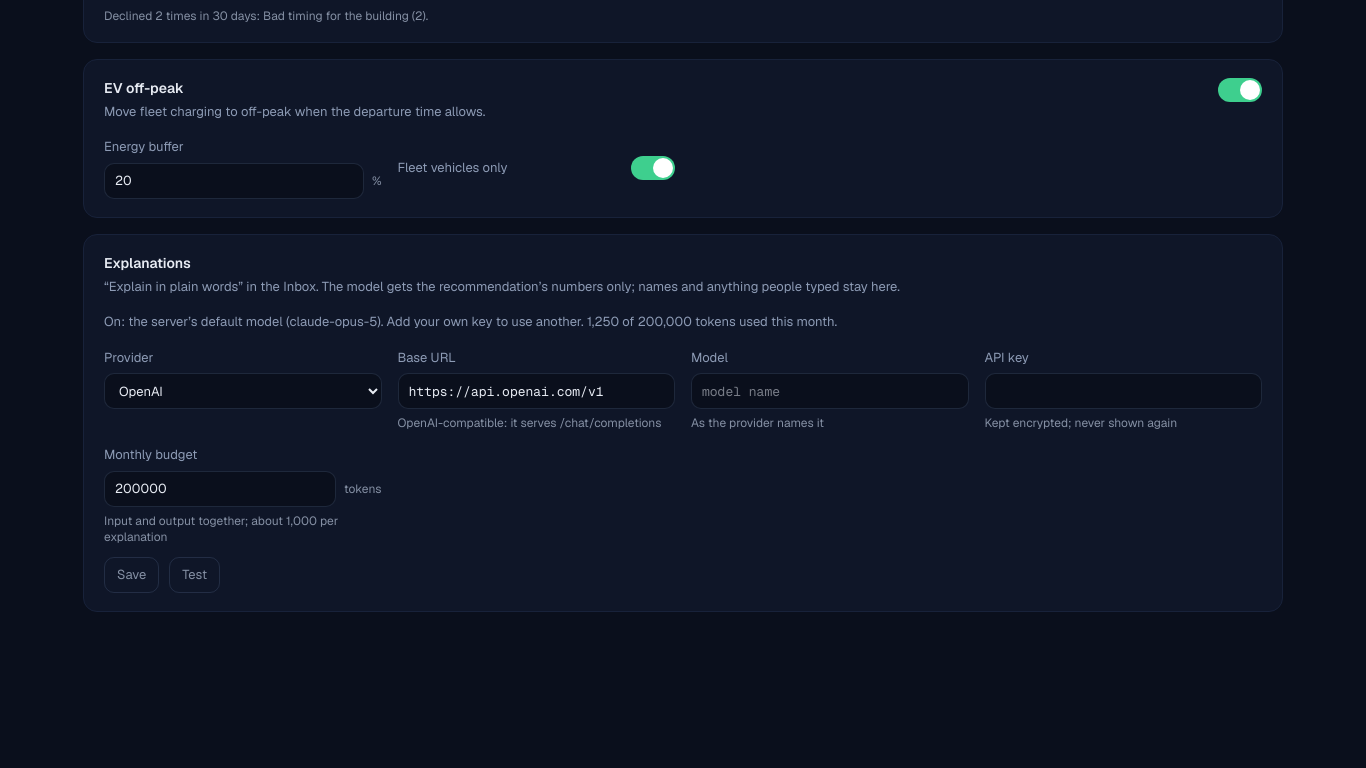
Scenario: explanations: your own language model (P5-05) › lets the owner plug in an OpenAI-compatible key, try it and save it
(page scrolled)
Expected: the text with test id "explanations-status" shows "On: the server’s default model (claude-opus-5). Add your own key to use another. 1,250 of 200,000 tokens used this month.", [104,313,837,330]
Select "OpenRouter" in the dropdown labelled "Provider": (243, 391) [104,373,382,409]
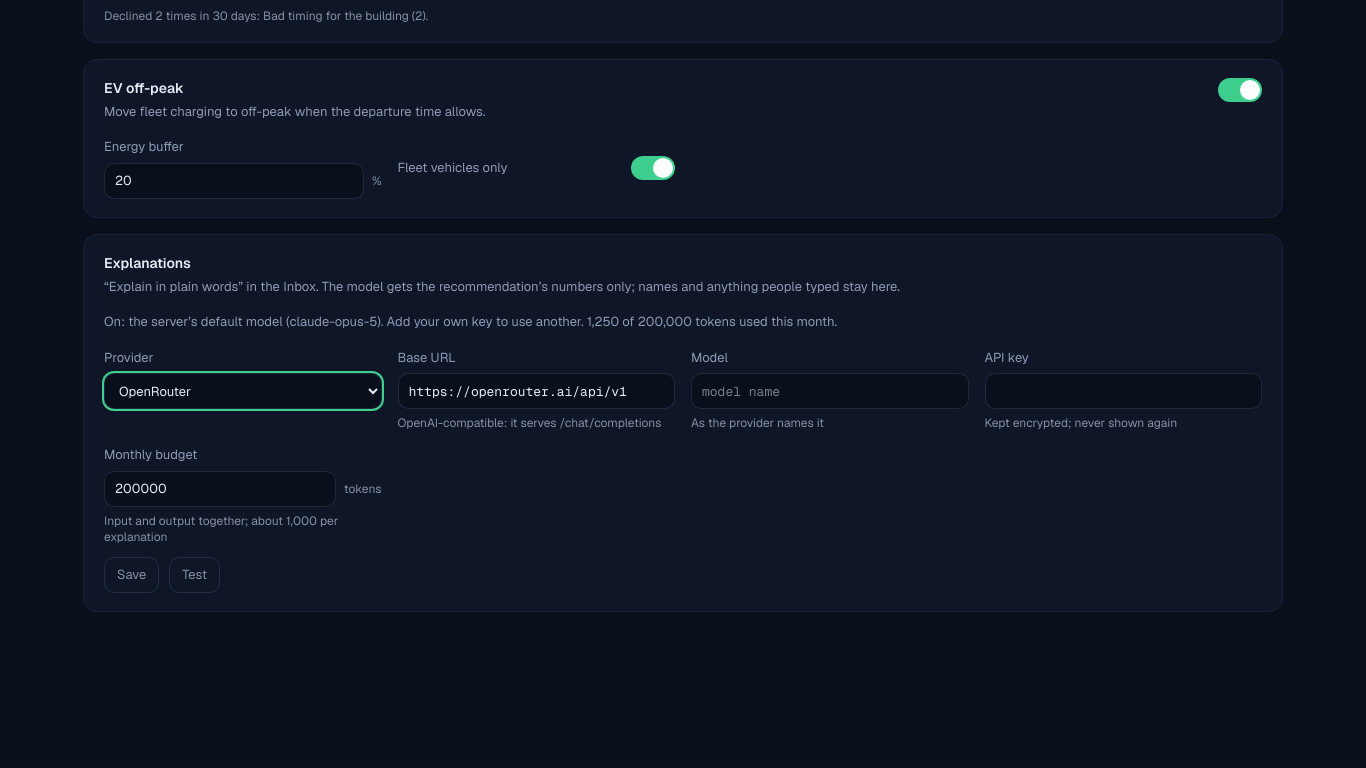
Now the field labelled "Base URL" holds "https://openrouter.ai/api/v1", box [398,373,675,409]
In the field labelled "Model": (830, 391) [691,373,968,409], type "some/model"
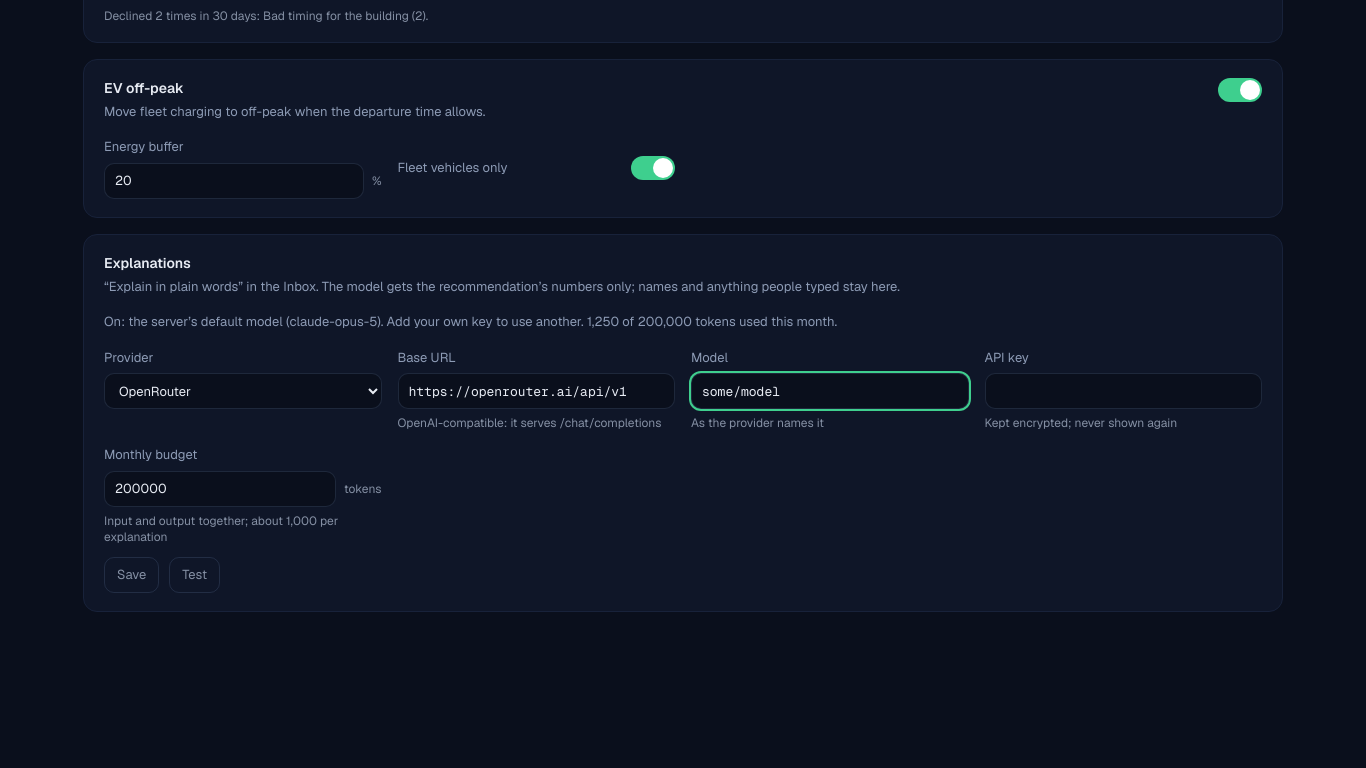
In the password field labelled "API key": (1123, 391) [984,373,1262,409], type "sk-or-1234567890WXYZ"
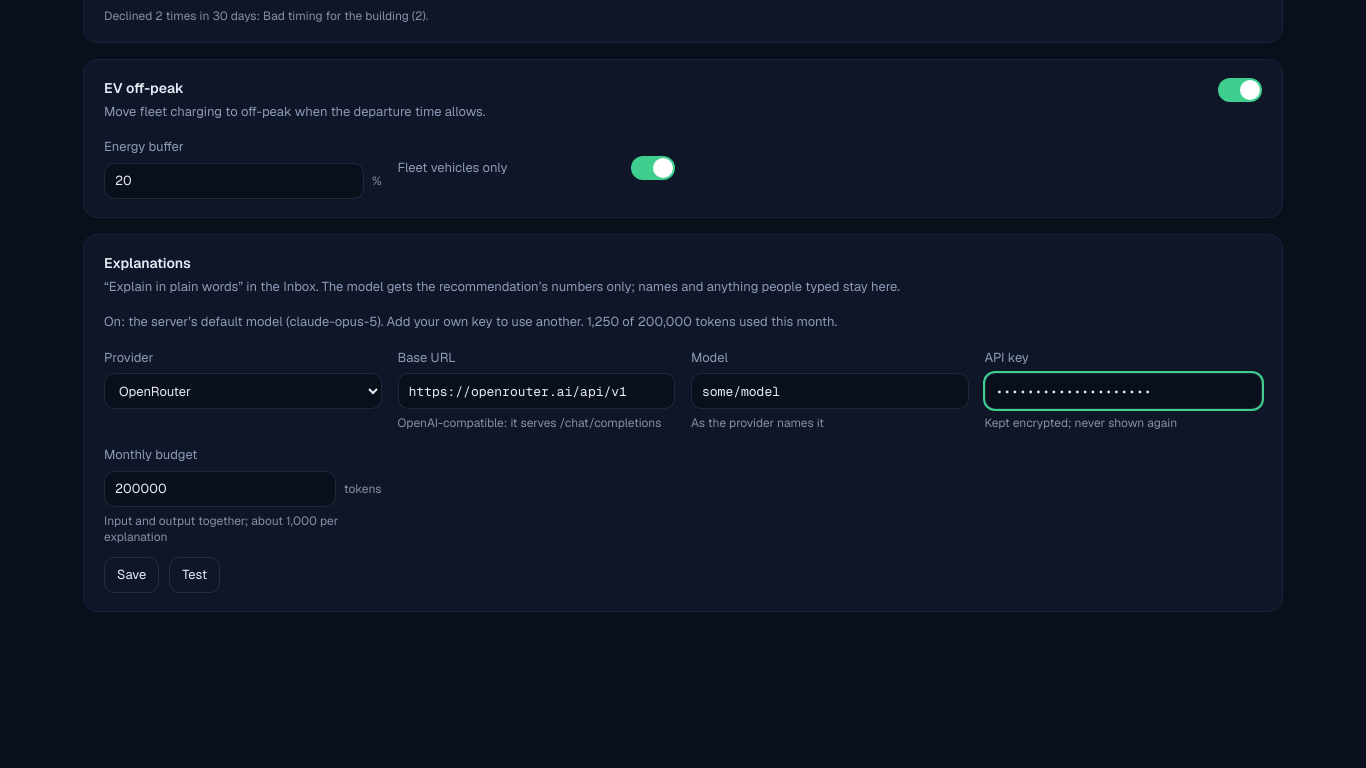
Replace the text in the number field labelled "Monthly budget" with "50000": (220, 488) [104,470,336,506]
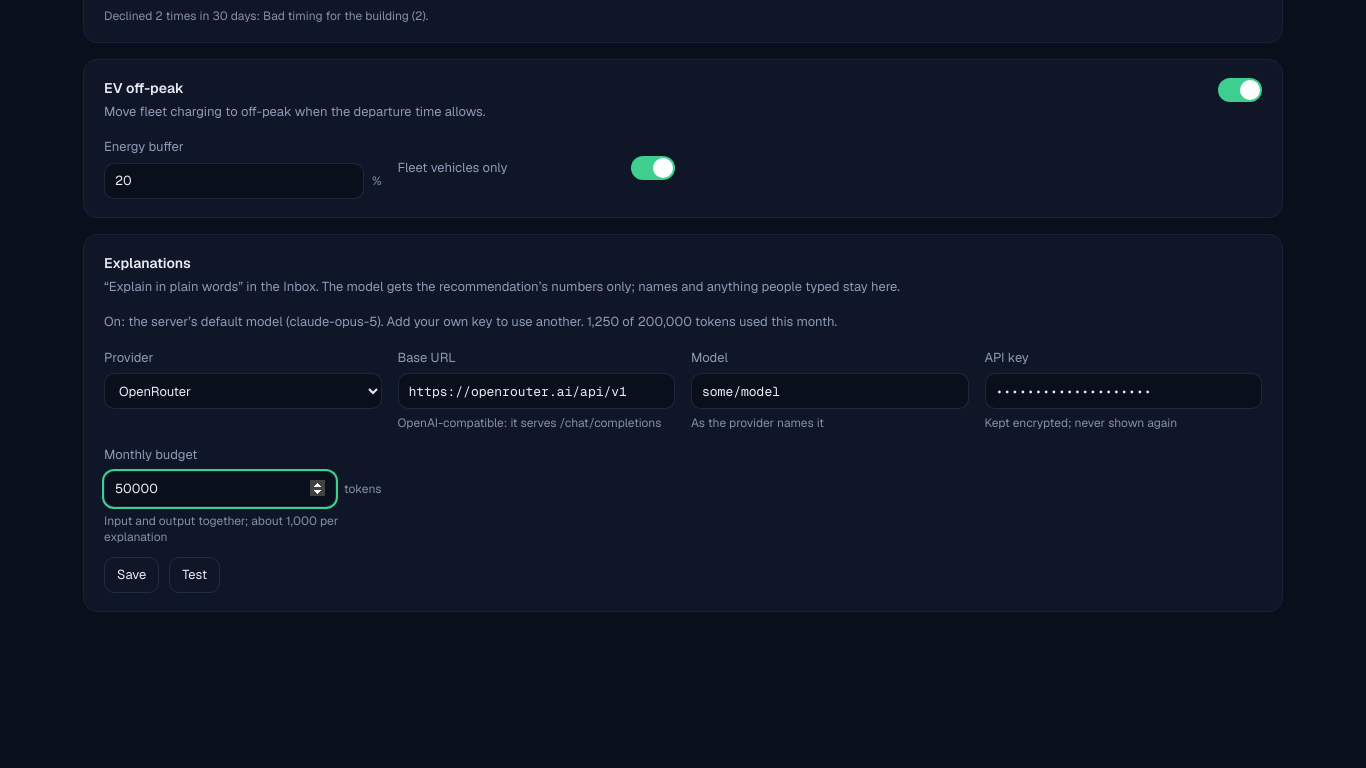
Click the button "Test": click(195, 574) [169,556,220,592]
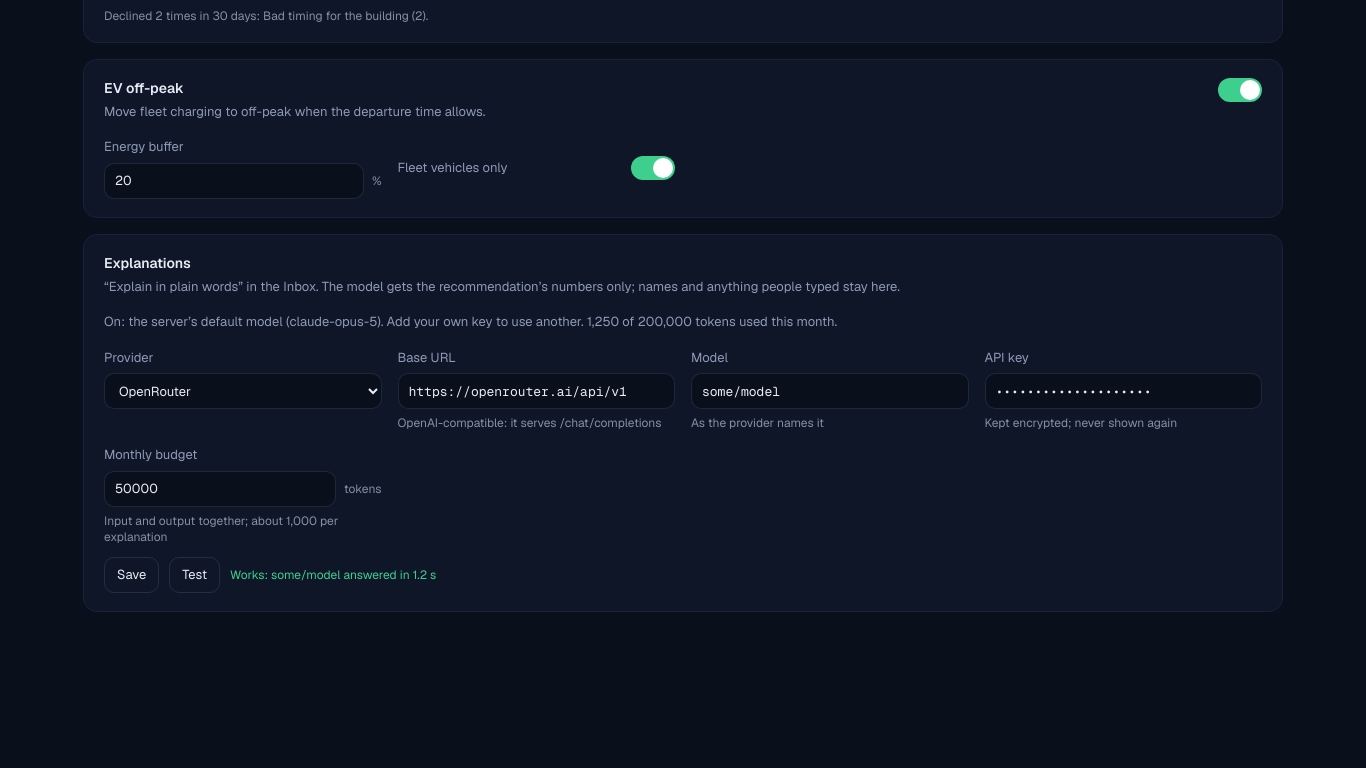
Now the message reads "Works: some/model answered in 1.2 s", box [230,566,436,582]
Click the button "Save": click(132, 574) [104,556,159,592]
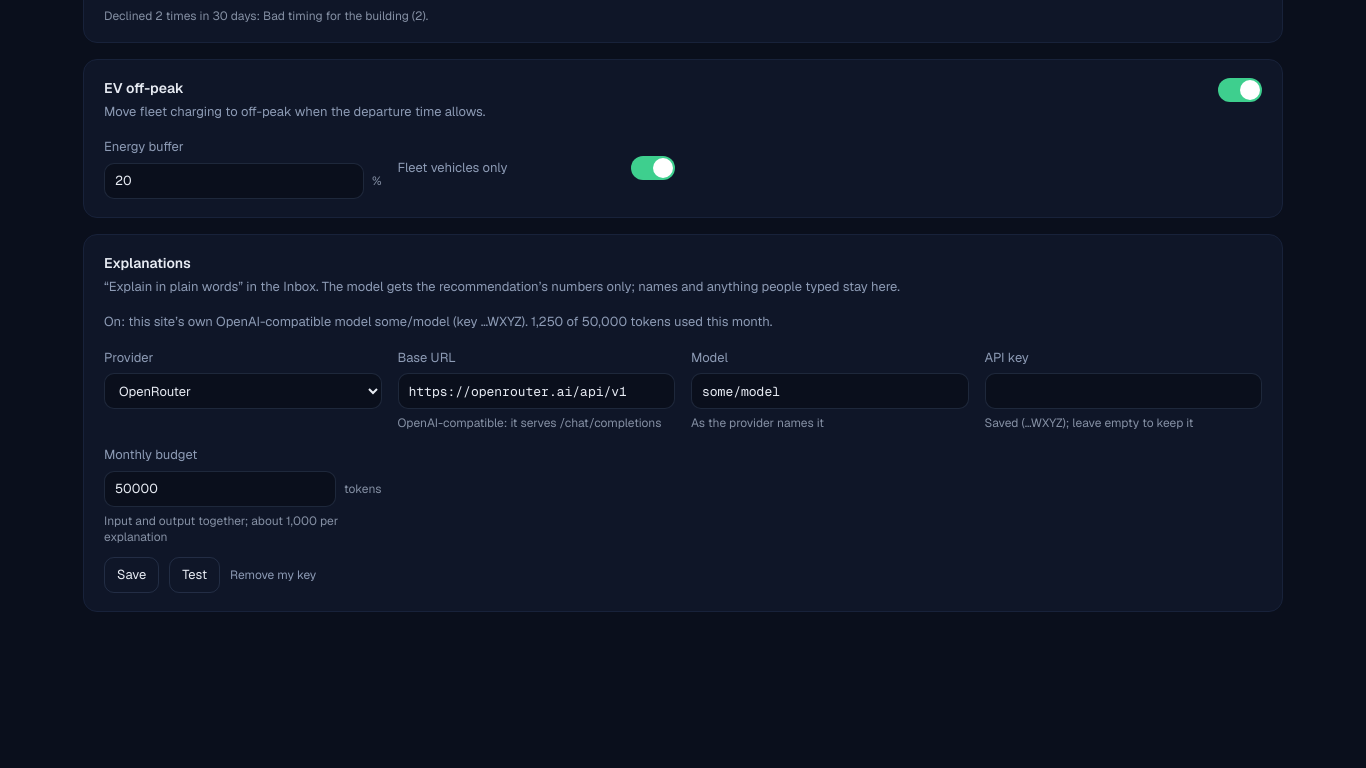
Now the text with test id "explanations-status" shows "this site’s own OpenAI-compatible model some/model (key …WXYZ)", box [104,313,528,330]
Now the password field labelled "API key" is empty, box [984,373,1262,409]
